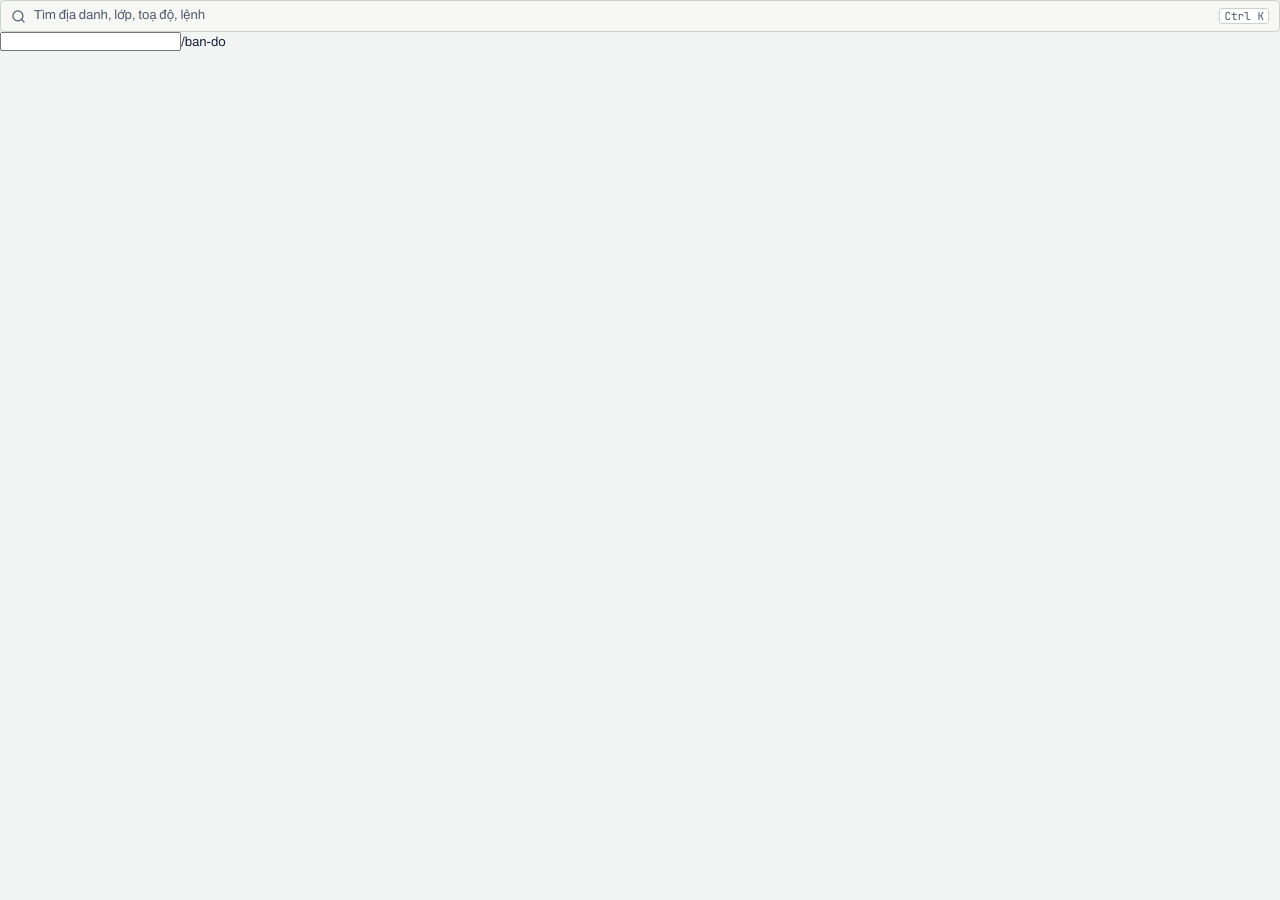
Test: CommandPalette › the header field opens the palette, and Escape closes it
Step 1. Click the button "Tìm địa danh, lớp, toạ độ, lệnh Ctrl K" → (120, 15), box top-left (0, 0), bottom-right (1279, 32)
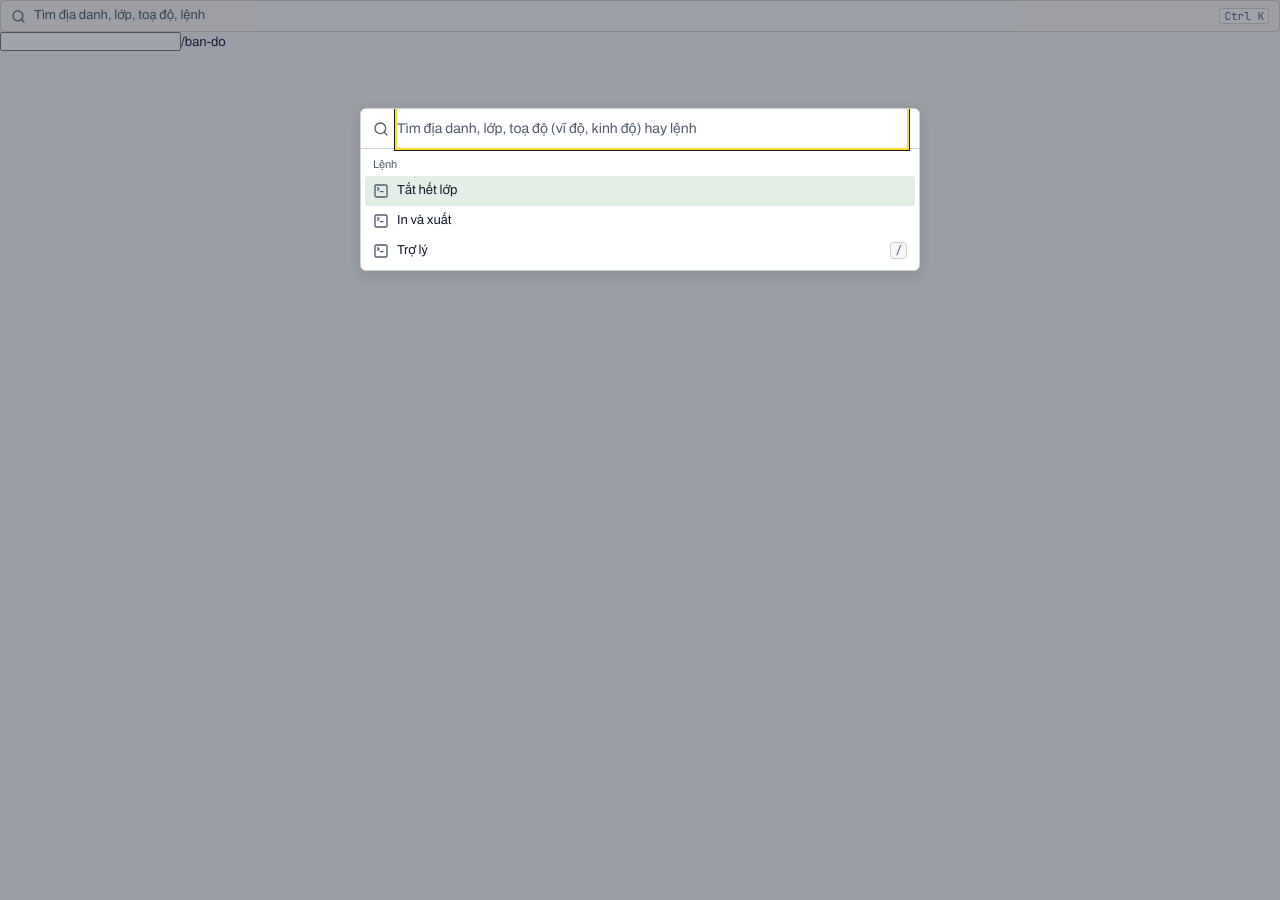
expect the dialog named "Bảng lệnh" is shown: met, box top-left (360, 108), bottom-right (920, 271)
Step 2. Press Escape
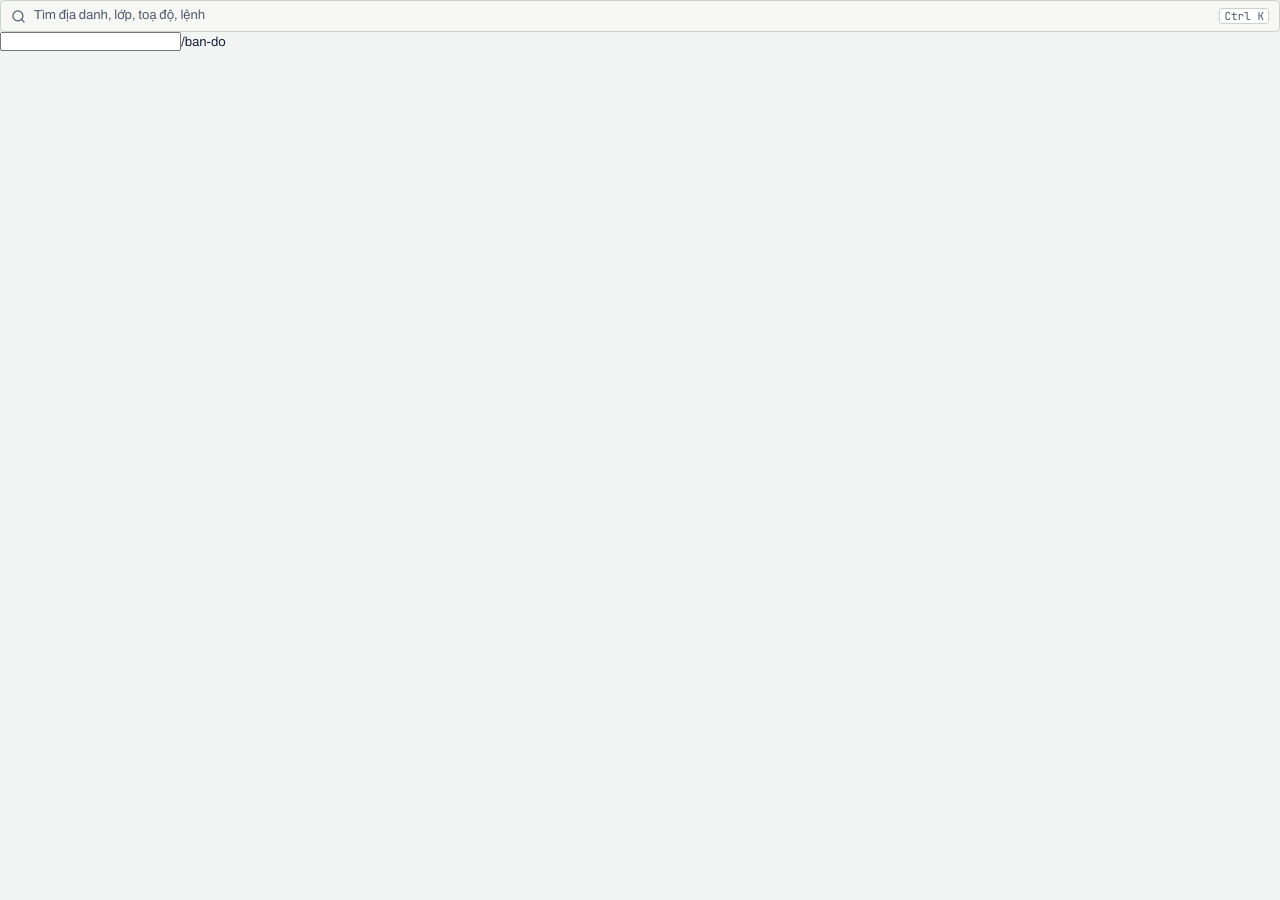
expect the dialog is gone: met
